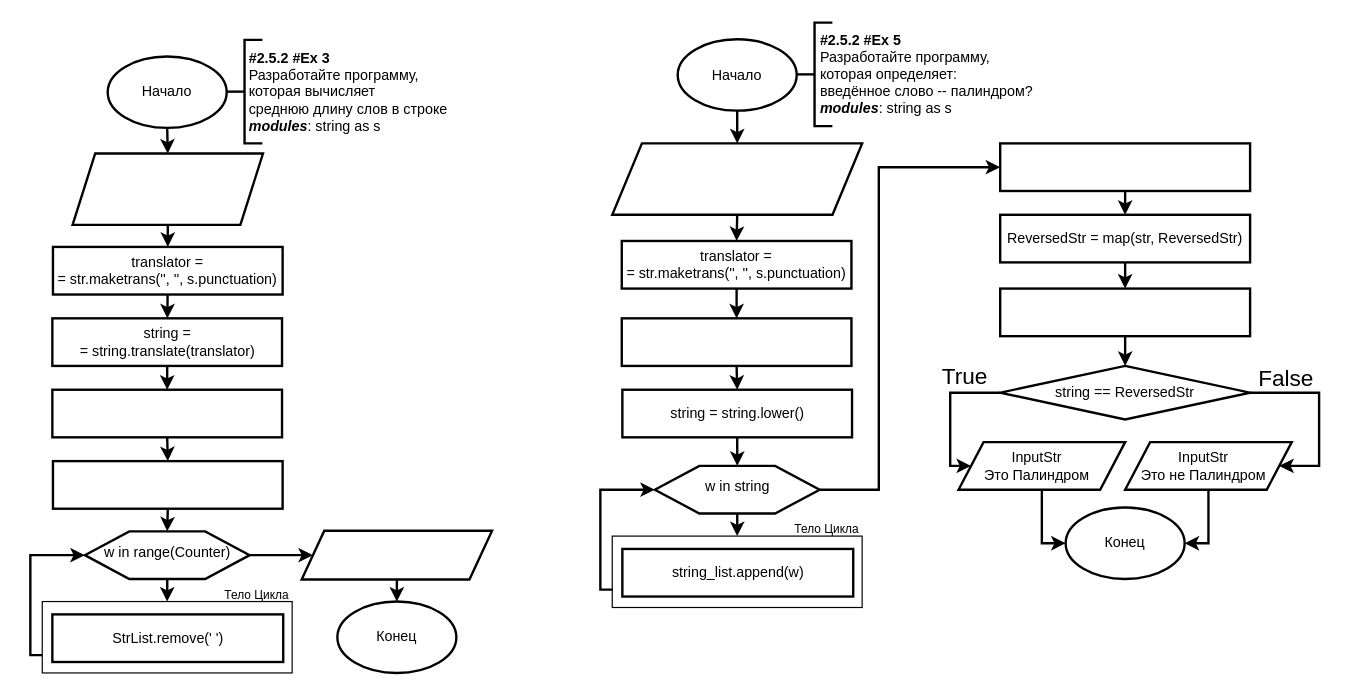
Image size: 1349x694. Some labels were removed from this diagram. Here are the shapes that lost their labels. From the top down, the centre of each, then its label:
the point at 736,178: string_list = [] InputStr= input('Введите строку')
the point at 1124,167: ReversedStr = string_list[::-1]
the point at 167,189: string = = input('Введите строку')
the point at 1124,312: ReversedStr = ''.join(ReversedStr)
the point at 736,342: string = = InputStr.translate(translator)
the point at 167,413: StrList : list = string.split(' ')
the point at 167,484: Counter = StrList.count(' ')
the point at 396,554: String
